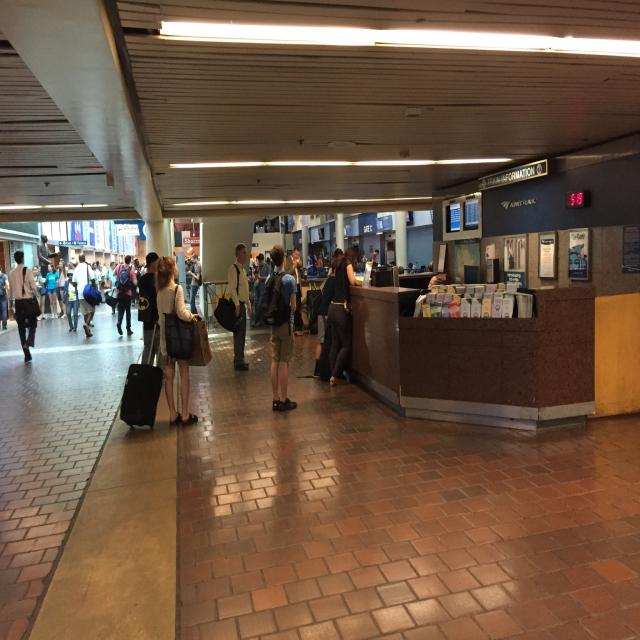body: (154, 254, 200, 428), (259, 243, 299, 413), (212, 242, 253, 372), (326, 246, 359, 386), (8, 249, 42, 364), (137, 252, 166, 382), (311, 258, 340, 378), (72, 252, 102, 338), (112, 254, 138, 336), (36, 232, 62, 312), (284, 246, 305, 336), (250, 252, 272, 329), (62, 269, 78, 332), (186, 253, 202, 315), (374, 259, 436, 275), (312, 247, 346, 276), (44, 263, 60, 319), (506, 234, 526, 274), (104, 260, 118, 315), (568, 243, 588, 281), (35, 264, 48, 320), (56, 258, 68, 318), (57, 260, 69, 319), (249, 252, 273, 281), (0, 263, 10, 331), (424, 275, 449, 297), (32, 267, 42, 321), (130, 263, 142, 307), (126, 258, 148, 276), (86, 260, 108, 278), (180, 256, 196, 280), (354, 248, 369, 272), (92, 262, 102, 293), (304, 253, 314, 284), (66, 258, 78, 270), (371, 248, 380, 262), (9, 261, 18, 270), (116, 260, 124, 268)
